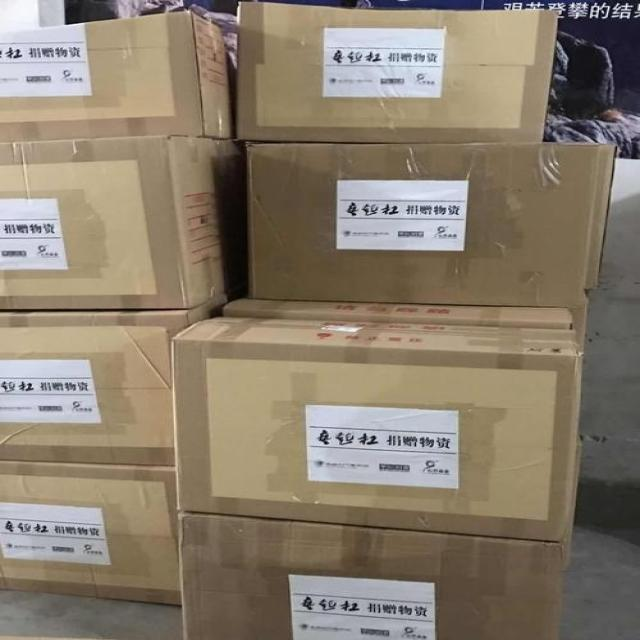box: (174, 314, 586, 542), (244, 142, 614, 310), (178, 512, 562, 639), (238, 2, 559, 141), (0, 136, 232, 311), (0, 293, 230, 466), (0, 9, 233, 142), (0, 462, 180, 605), (223, 296, 575, 327)
